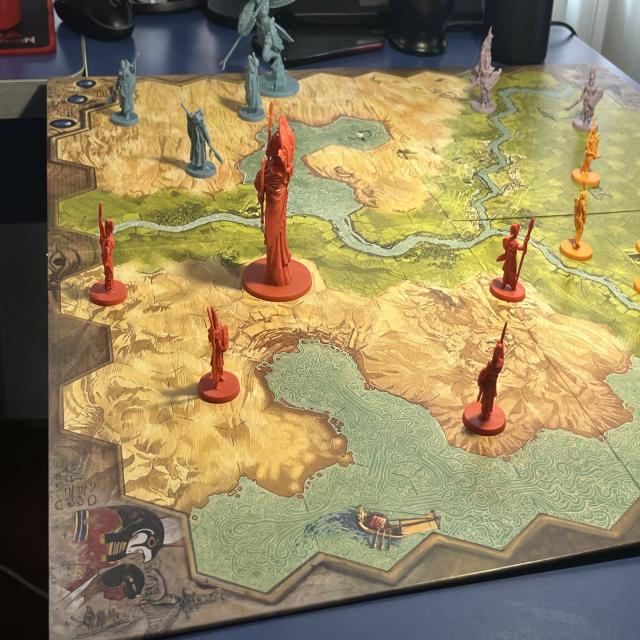amon: (240, 91, 315, 303)
amon_follower: (462, 316, 508, 436), (194, 295, 242, 404), (85, 195, 131, 302), (482, 210, 535, 301)
isis: (219, 0, 302, 100)
isis_follower: (178, 94, 226, 178), (102, 44, 148, 125), (236, 50, 268, 118)
